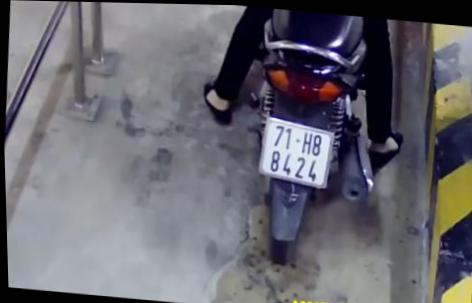LP: (253, 113, 335, 188)
